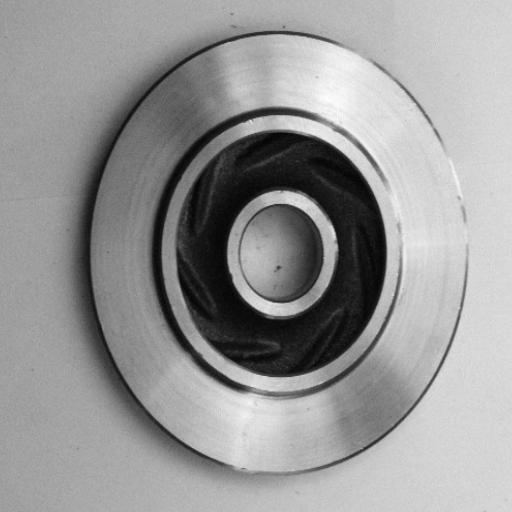scratch: (439, 149, 479, 250), (380, 170, 413, 246)
unpolished_casting: (87, 30, 474, 480)
